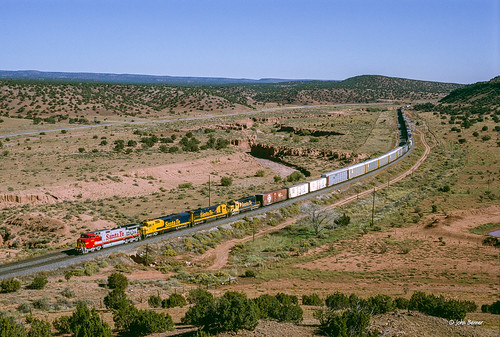sky: (1, 1, 496, 73)
train: (80, 151, 404, 253)
